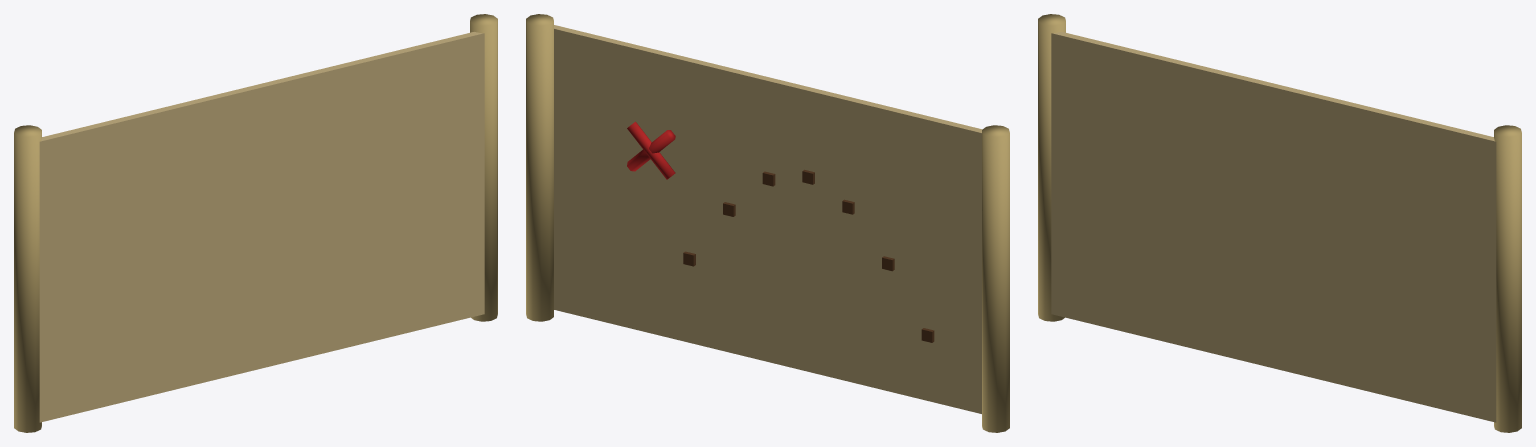
The model's file is treasure_map_v0.glb.
3 renders of one model, left to right at view 1: azimuth 30°, elevation 25°; view 2: azimuth 150°, elevation 25°; view 3: azimuth 330°, elevation 25°, orthographic.
Parts seen in each view (by area): view 1: treasure_map_v0; view 2: treasure_map_v0; view 3: treasure_map_v0.
Boxes of the visible parts, x1,y1,x2,y2 form: treasure_map_v0: (14,14,497,432); treasure_map_v0: (526,14,1009,432); treasure_map_v0: (1038,14,1521,432).
Bounding box in the file's own units: 1.36 × 0.8 × 0.07.
